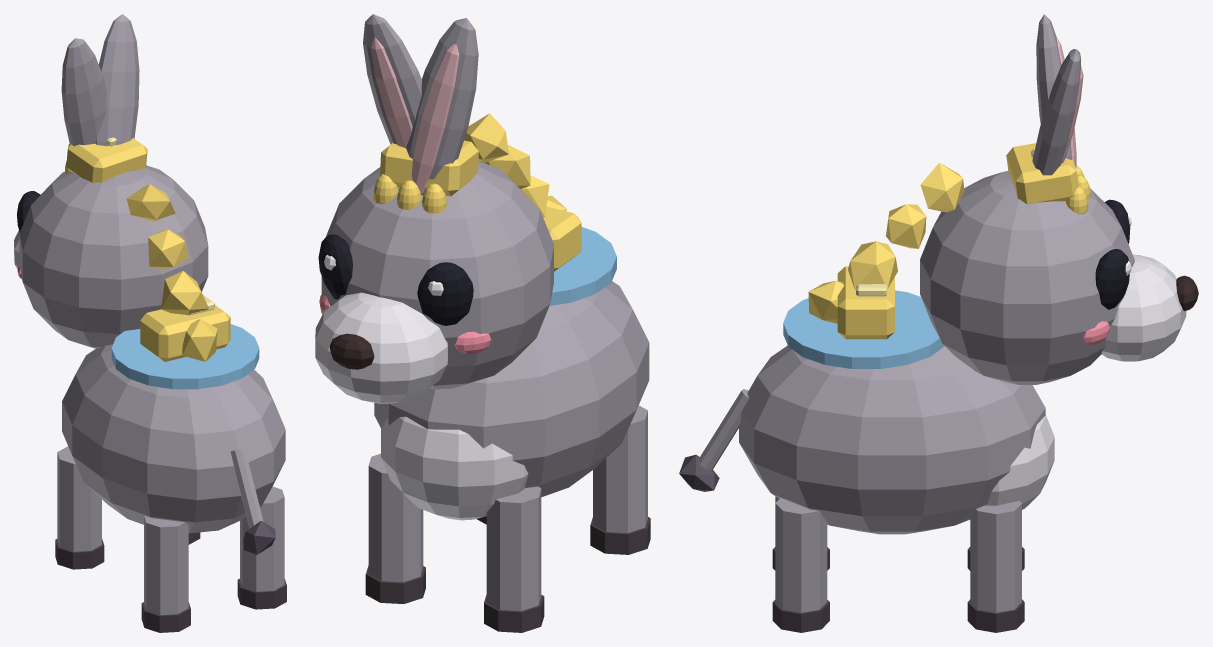
The model's file is ButterDonkey.fbx.
3 views of the same model, side by side, from view 1: azimuth 30°, elevation 25°; view 2: azimuth 150°, elevation 25°; view 3: azimuth 270°, elevation 25° (orthographic). The views are drawn at different scales.
Parts seen in each view (by area): view 1: Pet_A8A2AE, Pet_FFE070, Pet_8EC8F0, Pet_4A4048, Pet_5A5260, Pet_1E1E2A; view 2: Pet_A8A2AE, Pet_E6E2EA, Pet_FFE070, Pet_F0C0C8, Pet_4A4048, Pet_1E1E2A, Pet_8EC8F0, Pet_3A2A2A, Pet_FF9AAE; view 3: Pet_A8A2AE, Pet_FFE070, Pet_E6E2EA, Pet_8EC8F0, Pet_4A4048, Pet_1E1E2A, Pet_5A5260.
Boxes of the visible parts, x1,y1,x2,y2 form: Pet_A8A2AE: (19, 14, 285, 615); Pet_FFE070: (65, 138, 230, 361); Pet_8EC8F0: (111, 324, 259, 389); Pet_4A4048: (55, 532, 286, 632); Pet_5A5260: (243, 520, 275, 554); Pet_1E1E2A: (17, 191, 40, 231); Pet_A8A2AE: (321, 14, 649, 611); Pet_E6E2EA: (315, 292, 528, 520); Pet_FFE070: (374, 113, 581, 271); Pet_F0C0C8: (371, 37, 459, 194); Pet_4A4048: (365, 516, 650, 632); Pet_1E1E2A: (318, 234, 473, 325); Pet_8EC8F0: (549, 227, 616, 305); Pet_3A2A2A: (329, 333, 374, 369); Pet_FF9AAE: (319, 295, 491, 353); Pet_A8A2AE: (699, 14, 1134, 612); Pet_FFE070: (808, 143, 1090, 339); Pet_E6E2EA: (970, 254, 1186, 519); Pet_8EC8F0: (783, 290, 944, 368); Pet_4A4048: (772, 547, 1024, 632); Pet_1E1E2A: (1095, 199, 1130, 309); Pet_5A5260: (679, 454, 719, 491).
Bounding box in the file's own units: 0.8641 × 2.39 × 2.
